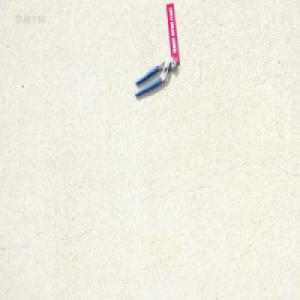Label: (166, 1, 180, 67)
Pliers: (134, 58, 176, 99)
